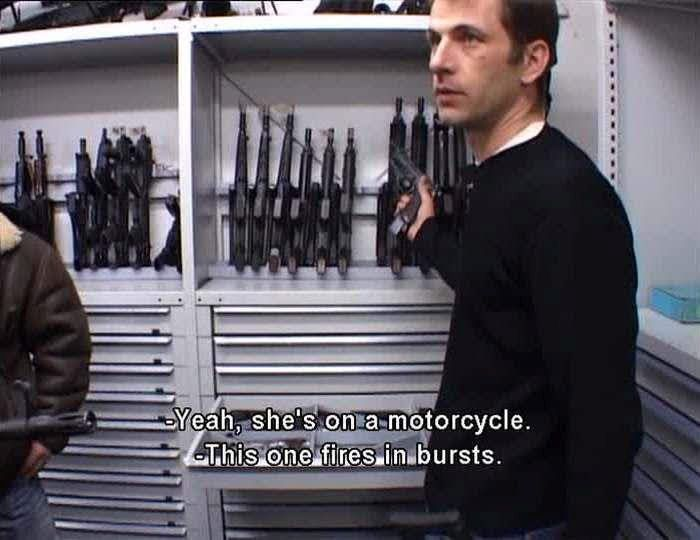gun: (380, 91, 433, 259), (390, 137, 444, 278), (112, 125, 161, 273), (11, 125, 55, 256), (337, 117, 369, 277), (59, 136, 95, 272), (317, 115, 343, 275), (87, 131, 115, 277), (276, 106, 301, 266), (233, 95, 255, 265), (300, 117, 322, 284)
